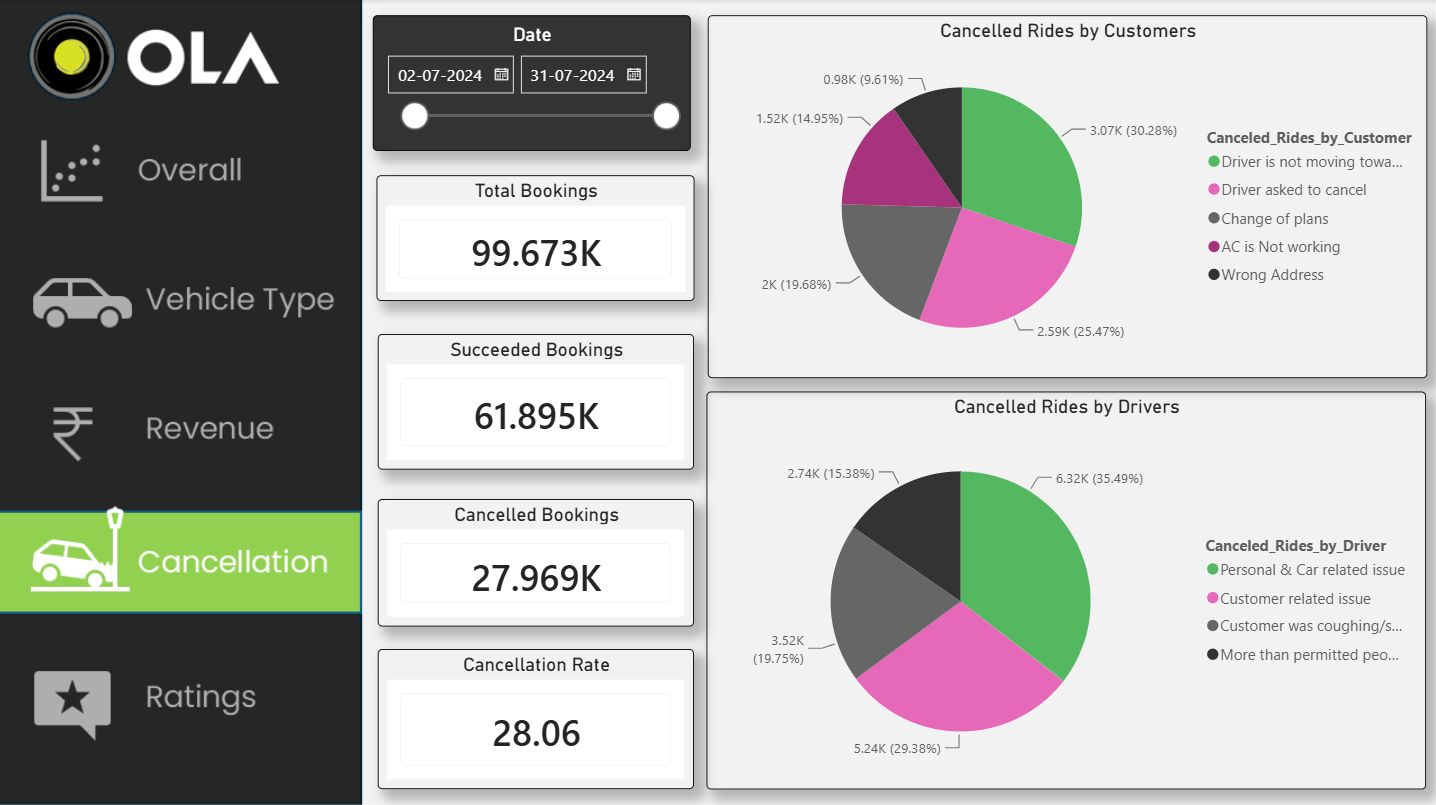

This screenshot's page, from the dashboard's own definition file:
{"tool":"powerbi","page":{"name":"Cancellation","canvas":[1280,720],"ordinal":3},"visuals":[{"type":"actionButton","box":[0,223.2,323.3,91.7],"z":0},{"type":"actionButton","box":[0,108.6,323.3,91.7],"z":1},{"type":"actionButton","box":[0,337.8,323.3,91.7],"z":2},{"type":"actionButton","box":[0,579.1,323.3,98.9],"z":3},{"type":"pieChart","title":"Cancelled Rides by Customers","fields":{"Category":["July.Canceled_Rides_by_Customer"],"Y":["CountNonNull(July.Canceled_Rides_by_Customer)"]},"box":[631,14.5,640.6,323.3],"z":4},{"type":"pieChart","title":"Cancelled Rides by Drivers","fields":{"Category":["July.Canceled_Rides_by_Driver"],"Y":["CountNonNull(July.Canceled_Rides_by_Driver)"]},"box":[629.8,349.9,640.6,354.7],"z":5},{"type":"slicer","title":"Date","fields":{"Values":["July.Date"]},"box":[332.8,14.2,283,120.9],"z":6},{"type":"cardVisual","title":"Total Bookings","fields":{"Data":["Count(July.Booking_ID)"]},"box":[335.6,156.4,283,112.4],"z":7},{"type":"cardVisual","title":"Succeeded Bookings","fields":{"Data":["Count(July.Booking_ID)"]},"box":[337.1,298.7,281.6,120.9],"z":8},{"type":"cardVisual","title":"Cancelled Bookings","fields":{"Data":["Count(July.Booking_ID)"]},"box":[337.1,445.2,281.6,113.8],"z":9},{"type":"cardVisual","title":"Cancellation Rate","fields":{"Data":["July.CanceledPercentage"]},"box":[337.1,578.8,281.6,125.2],"z":10}]}

Visuals, with their boxes on the page's 1280x720 design canvas (x1, y1, x2, y2). These are canvas units, not pixel positions in the 1436x805 screenshot, which may show the page scaled, cropped or inside an application window:
actionButton: l=0, t=223, r=323, b=315
actionButton: l=0, t=109, r=323, b=200
actionButton: l=0, t=338, r=323, b=430
actionButton: l=0, t=579, r=323, b=678
"Cancelled Rides by Customers" pieChart: l=631, t=14, r=1272, b=338
"Cancelled Rides by Drivers" pieChart: l=630, t=350, r=1270, b=705
"Date" slicer: l=333, t=14, r=616, b=135
"Total Bookings" cardVisual: l=336, t=156, r=619, b=269
"Succeeded Bookings" cardVisual: l=337, t=299, r=619, b=420
"Cancelled Bookings" cardVisual: l=337, t=445, r=619, b=559
"Cancellation Rate" cardVisual: l=337, t=579, r=619, b=704
